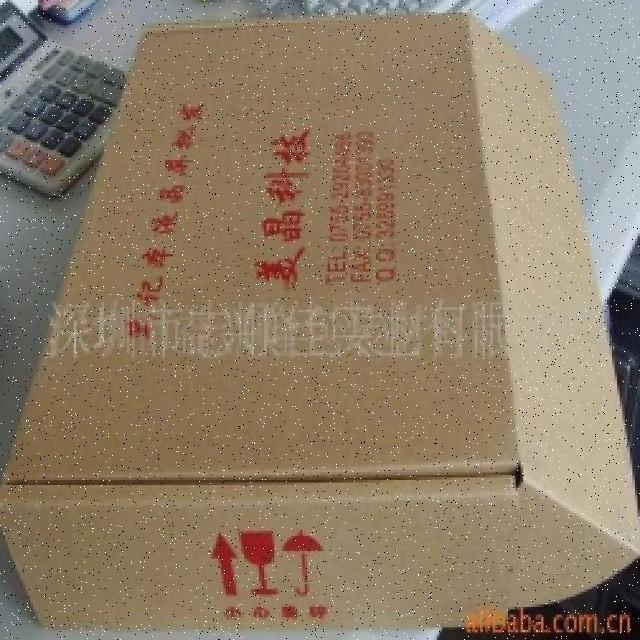box: (23, 0, 640, 615)
